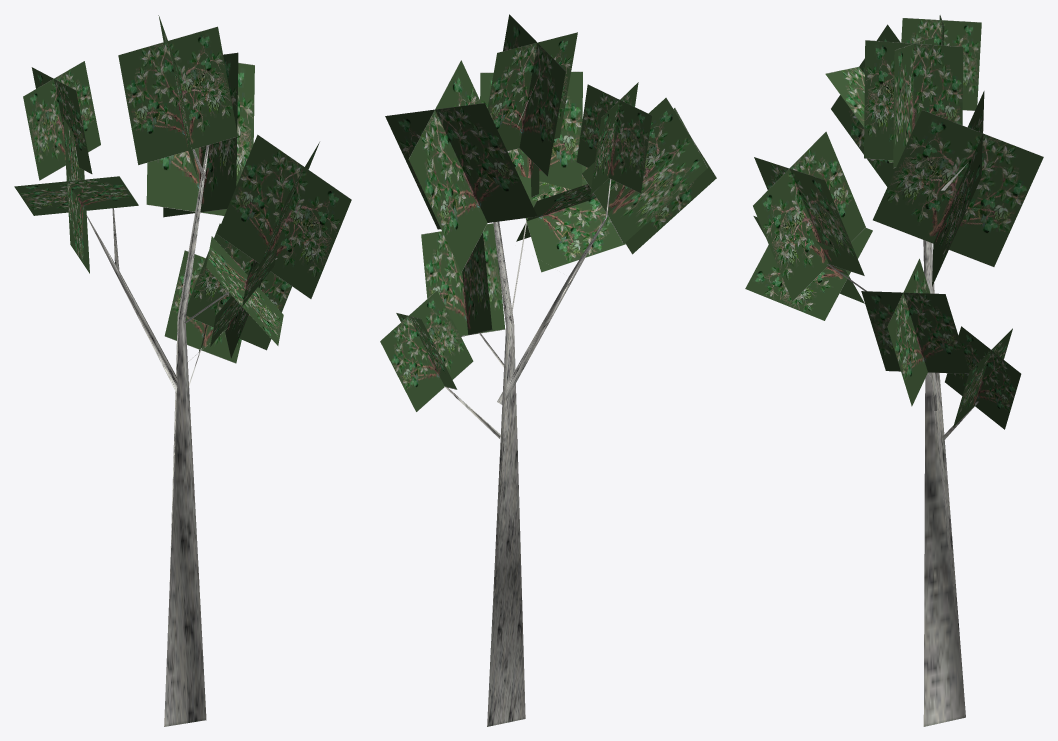
Rendered from decd_whitebirchtreeleaves_a1_l2.fbx.
The picture shows the model from 3 angles, left to right: view 1: azimuth 30°, elevation 25°; view 2: azimuth 150°, elevation 25°; view 3: azimuth 270°, elevation 25°; orthographic projection. The views are drawn at different scales.
Visible parts, largest first — view 1: mesh_node; view 2: mesh_node; view 3: mesh_node.
Boxes of the visible parts, left/top/right/bottom form: mesh_node: left=14, top=15, right=351, bottom=726; mesh_node: left=380, top=14, right=716, bottom=726; mesh_node: left=745, top=15, right=1043, bottom=726.
Size of the model in its own units: 6.47 by 15.2 by 6.1.
Materials: 2 (2 with a texture image).
